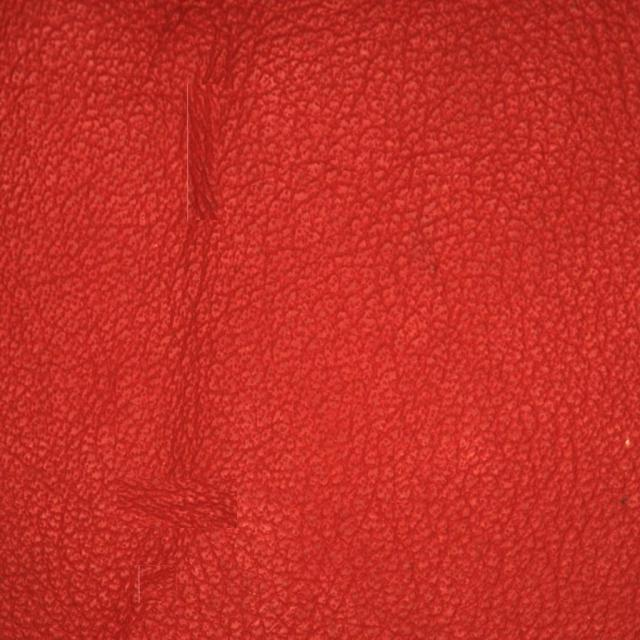Healed Injury: (86, 431, 282, 571), (150, 35, 277, 246)
